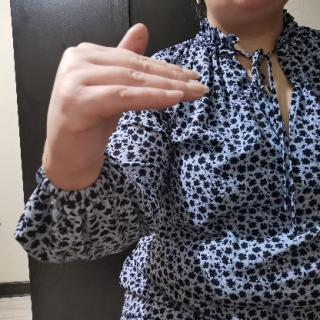KHAA: (38, 23, 215, 168)
